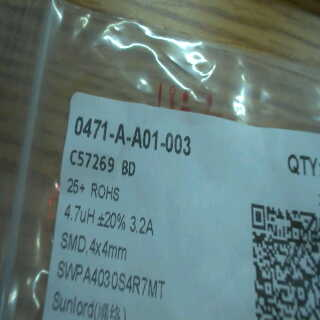4.7uH: (63, 205, 95, 221)
